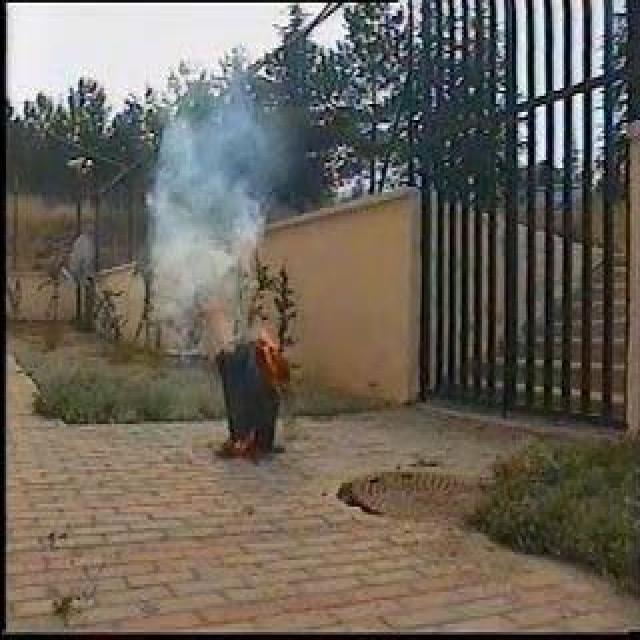smoke: (144, 105, 276, 268)
